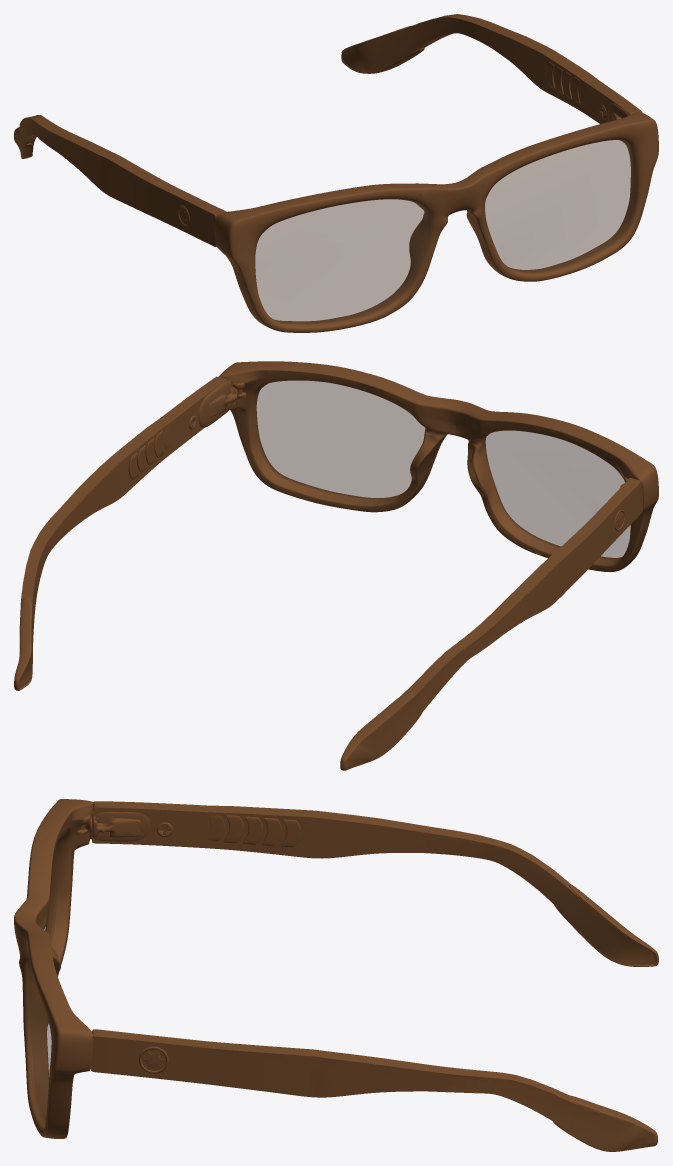
The model's file is optik-numarali-havana.glb.
3 views of the same model, one above another, from view 1: azimuth 30°, elevation 25°; view 2: azimuth 150°, elevation 25°; view 3: azimuth 270°, elevation 25° (orthographic). The views are drawn at different scales.
Parts seen in each view (by area): view 1: OPTIK_PRODUCT_237; view 2: OPTIK_PRODUCT_237; view 3: OPTIK_PRODUCT_237.
Part boxes in pixels (left/top/right/bottom): OPTIK_PRODUCT_237: left=14, top=14, right=658, bottom=332; OPTIK_PRODUCT_237: left=14, top=361, right=658, bottom=770; OPTIK_PRODUCT_237: left=14, top=799, right=658, bottom=1151.
Size of the model in its own units: 0.1338 by 0.0389 by 0.1481.
